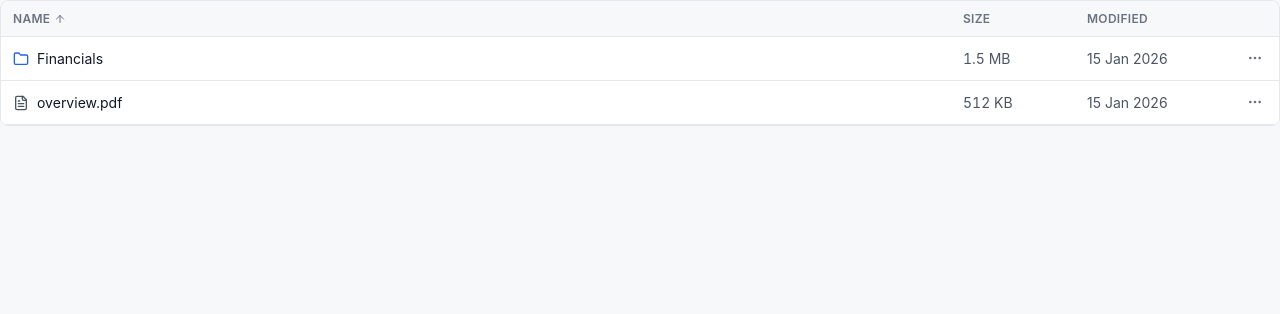
Test: NodeTable › offers rename, move, share and delete on a folder, and download only on files
Click the button named "Actions for Financials". click: click(1255, 58)
box: [1243,46,1267,70]
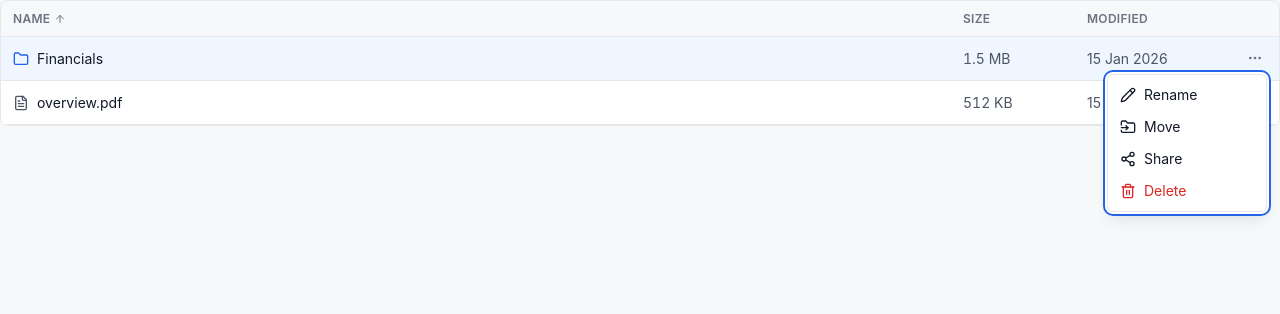
Check: the menu items read "Rename", "Move", "Share", "Delete", in this order, box [1120,86,1198,103]; [1120,118,1180,135]; [1120,150,1182,167]; [1120,182,1186,199]
Press Escape
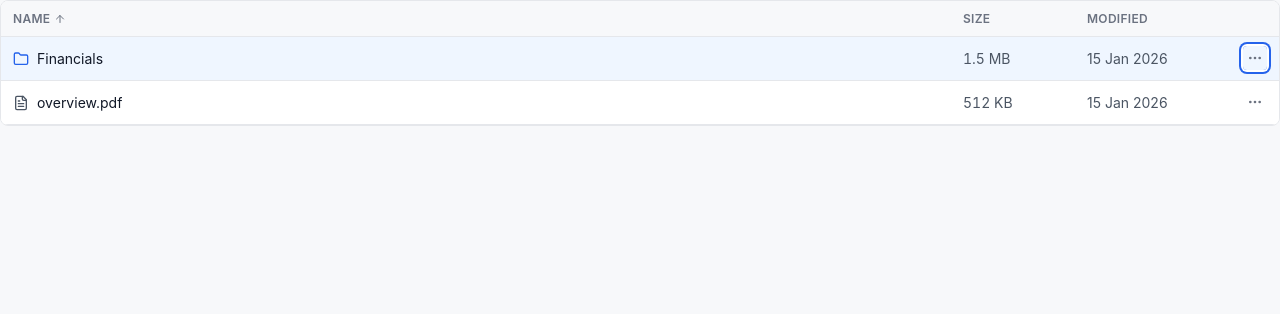
Click the button named "Actions for overview.pdf". click: click(1255, 102)
box: [1243,90,1267,114]
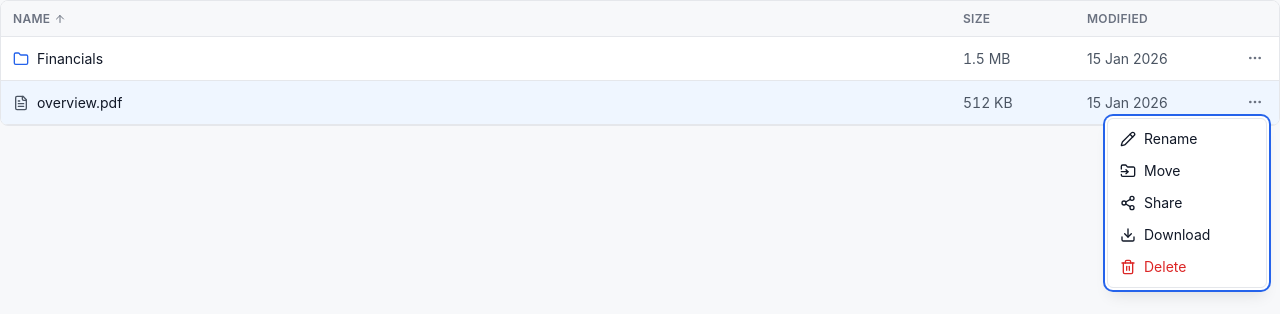
Check: the menu items read "Rename", "Move", "Share", "Download", "Delete", in this order, box [1120,130,1198,147]; [1120,162,1180,179]; [1120,194,1182,211]; [1120,226,1210,243]; [1120,258,1186,275]
